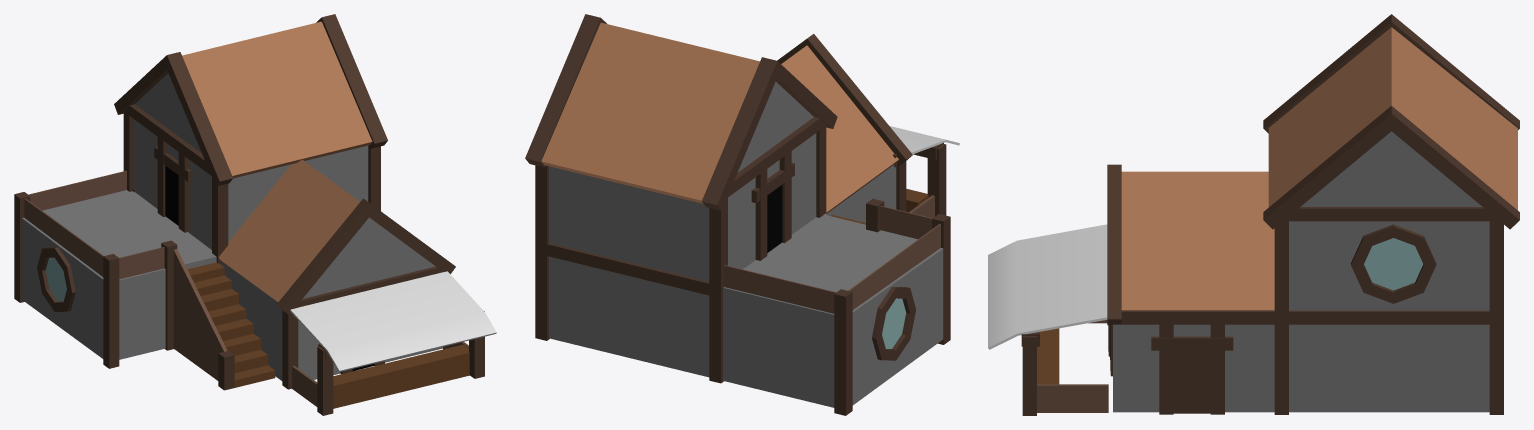
File: GrandeMaison+échoppe.fbx
3 renders of one model, left to right at view 1: azimuth 30°, elevation 25°; view 2: azimuth 150°, elevation 25°; view 3: azimuth 270°, elevation 25°, orthographic. The views are drawn at different scales.
Parts seen in each view (by area): view 1: pCube57; view 2: pCube57; view 3: pCube57.
Part boxes in pixels (box(x1,y1,x2,y2)): pCube57: box(14, 14, 496, 415); pCube57: box(525, 14, 959, 415); pCube57: box(988, 14, 1519, 415).
Size of the model in its own units: 9.2 by 7.96 by 12.46.
